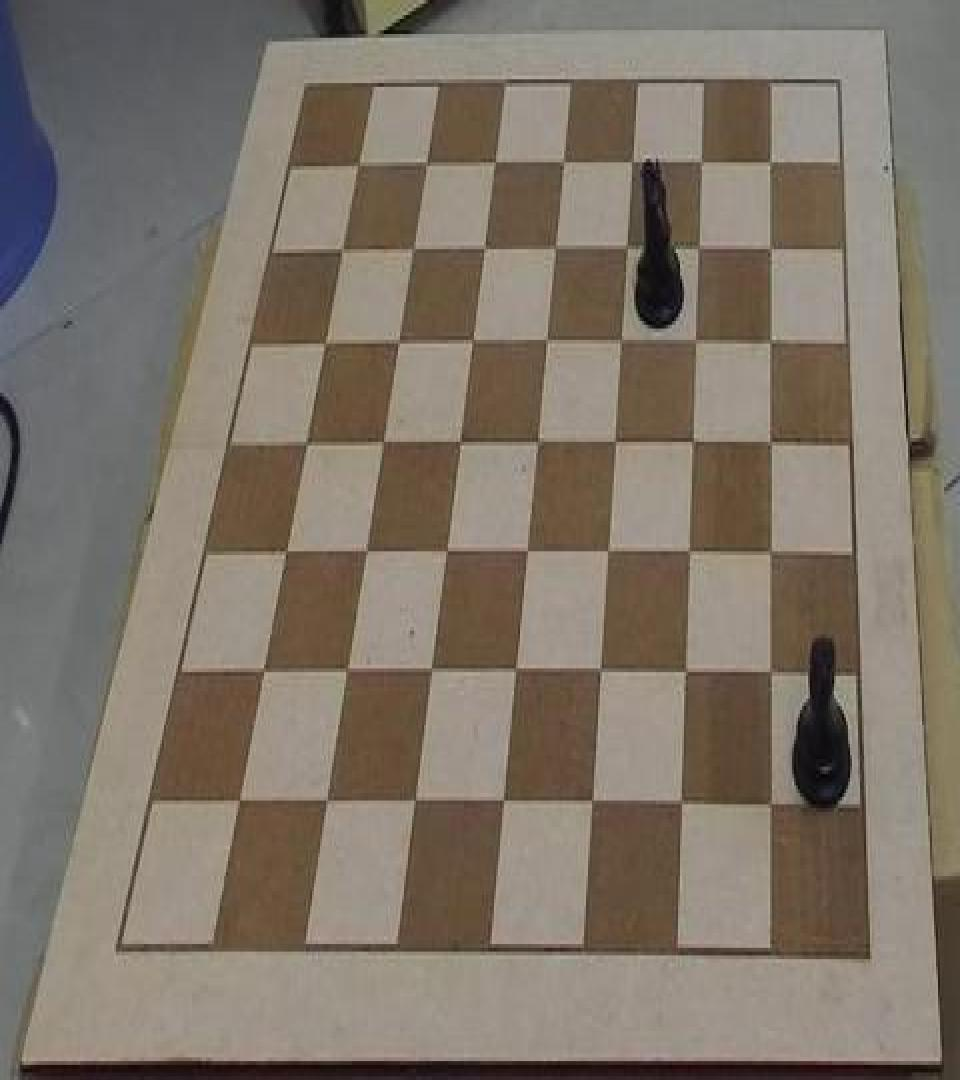xcorner: (764, 144, 784, 182), (694, 144, 714, 182), (624, 144, 644, 182), (555, 144, 575, 182), (485, 144, 505, 182), (416, 144, 436, 182), (346, 144, 366, 182), (764, 230, 784, 268), (692, 230, 712, 268), (619, 230, 639, 268), (547, 230, 567, 268), (475, 230, 495, 268), (403, 230, 423, 268), (331, 230, 351, 268), (765, 324, 785, 362), (689, 324, 709, 362), (614, 322, 634, 360), (539, 322, 559, 360), (464, 322, 484, 360), (389, 322, 409, 360), (314, 322, 334, 360), (765, 424, 785, 462), (687, 424, 707, 462), (608, 424, 628, 462), (530, 424, 550, 462), (451, 424, 471, 462), (373, 424, 393, 462), (295, 423, 315, 461), (766, 536, 786, 574), (684, 534, 704, 572), (602, 534, 622, 572), (520, 534, 540, 572), (438, 534, 458, 572), (357, 534, 377, 572), (275, 532, 295, 570), (766, 655, 786, 693), (680, 655, 700, 693), (595, 655, 615, 693), (509, 655, 529, 693), (424, 653, 444, 691), (338, 653, 358, 691), (253, 653, 273, 691), (767, 787, 787, 825), (677, 787, 697, 825), (587, 786, 607, 824), (497, 786, 517, 824), (408, 786, 428, 824), (318, 786, 338, 824), (229, 784, 249, 822)
